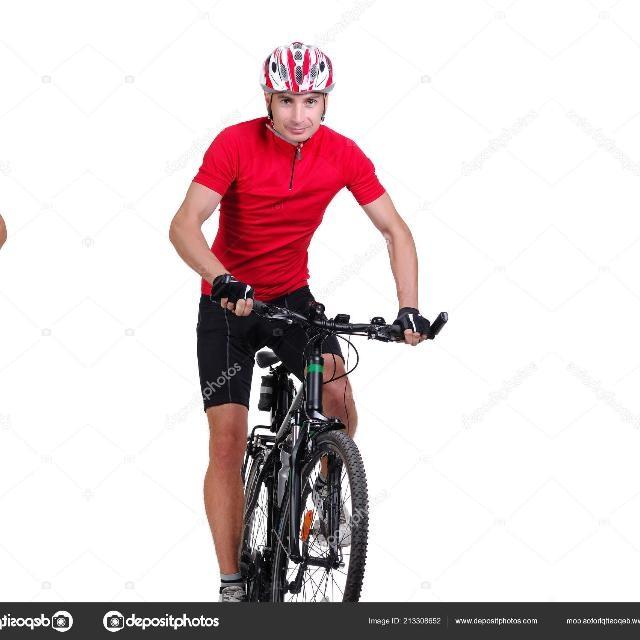obstacle: (210, 276, 432, 610)
person: (214, 30, 410, 262)
